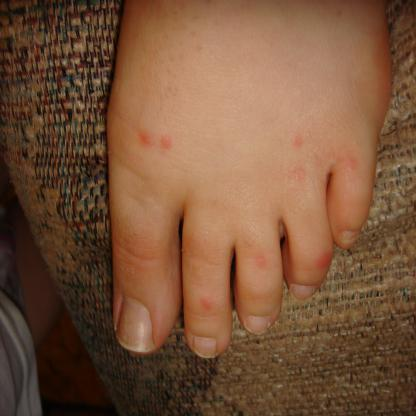Fire ant: (138, 126, 174, 152), (316, 250, 332, 271), (339, 154, 359, 170), (199, 296, 215, 312), (254, 253, 269, 269), (290, 136, 306, 150)
